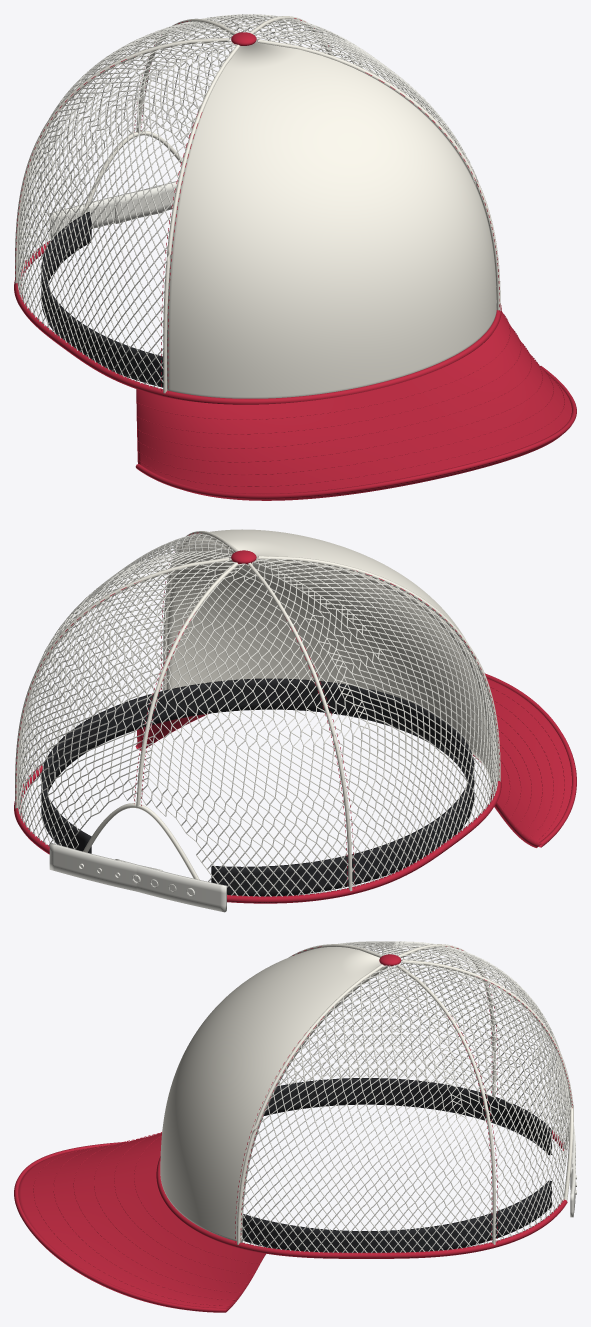
The model's file is trucker-cherry.glb.
3 views of the same model, one above another, from view 1: azimuth 30°, elevation 25°; view 2: azimuth 150°, elevation 25°; view 3: azimuth 270°, elevation 25° (orthographic). The views are drawn at different scales.
Visible parts, largest first — view 1: Front panel / color / complete construction, Brim / color / complete construction, Open mesh / color / complete construction, Interior sweatband / complete construction, Topstitch / color / complete construction, Snapback / color / complete construction; view 2: Open mesh / color / complete construction, Front panel / color / complete construction, Interior sweatband / complete construction, Brim / color / complete construction, Snapback / color / complete construction, Topstitch / color / complete construction; view 3: Open mesh / color / complete construction, Front panel / color / complete construction, Brim / color / complete construction, Interior sweatband / complete construction, Topstitch / color / complete construction.
Boxes of the visible parts, left/top/right/bottom form: Front panel / color / complete construction: left=15, top=16, right=500, bottom=398; Brim / color / complete construction: left=14, top=32, right=576, bottom=500; Open mesh / color / complete construction: left=17, top=14, right=496, bottom=389; Interior sweatband / complete construction: left=41, top=212, right=163, bottom=387; Topstitch / color / complete construction: left=15, top=18, right=564, bottom=486; Snapback / color / complete construction: left=49, top=181, right=177, bottom=238; Open mesh / color / complete construction: left=18, top=533, right=497, bottom=896; Front panel / color / complete construction: left=15, top=529, right=500, bottom=891; Interior sweatband / complete construction: left=41, top=678, right=474, bottom=896; Brim / color / complete construction: left=14, top=550, right=576, bottom=903; Snapback / color / complete construction: left=49, top=843, right=226, bottom=912; Topstitch / color / complete construction: left=15, top=532, right=564, bottom=889; Open mesh / color / complete construction: left=240, top=941, right=570, bottom=1253; Front panel / color / complete construction: left=160, top=944, right=573, bottom=1244; Brim / color / complete construction: left=14, top=954, right=567, bottom=1312; Interior sweatband / complete construction: left=242, top=1078, right=551, bottom=1252; Topstitch / color / complete construction: left=33, top=946, right=572, bottom=1306.
Size of the model in its own units: 0.2024 by 0.1506 by 0.2816.
